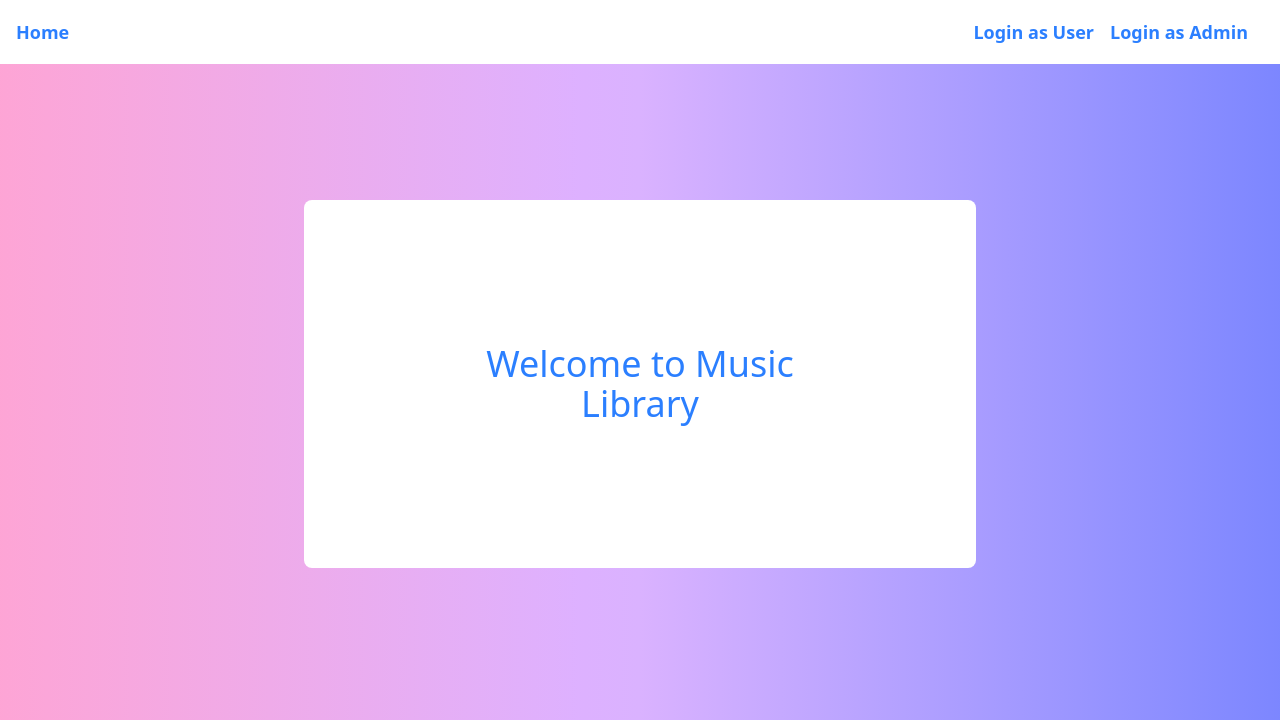
Scenario: App › should login as user and show Music Library link
The width and height of the screenshot is (1280, 720).
Click the button "Login as User" at {"x": 1034, "y": 32}, box [973, 18, 1094, 46]
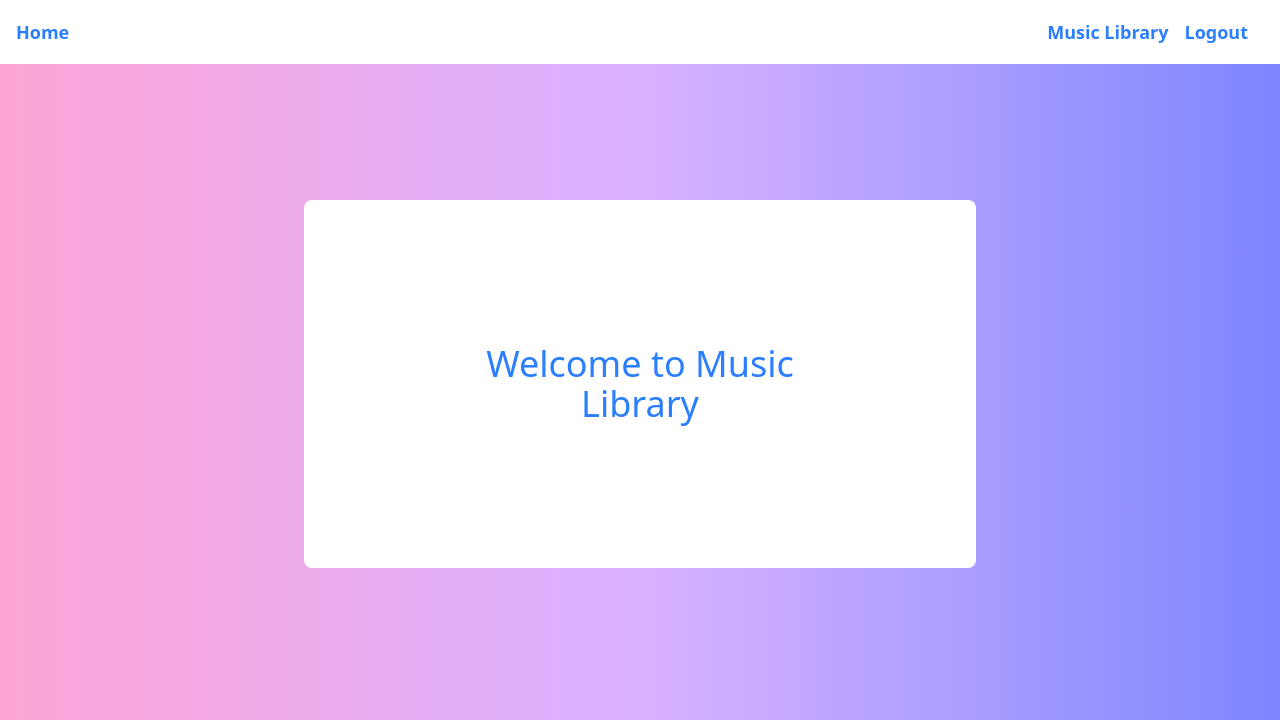
Result: the link "Music Library" is shown at [1047, 18, 1168, 46]
Result: the button "Logout" is shown at [1184, 18, 1248, 46]
